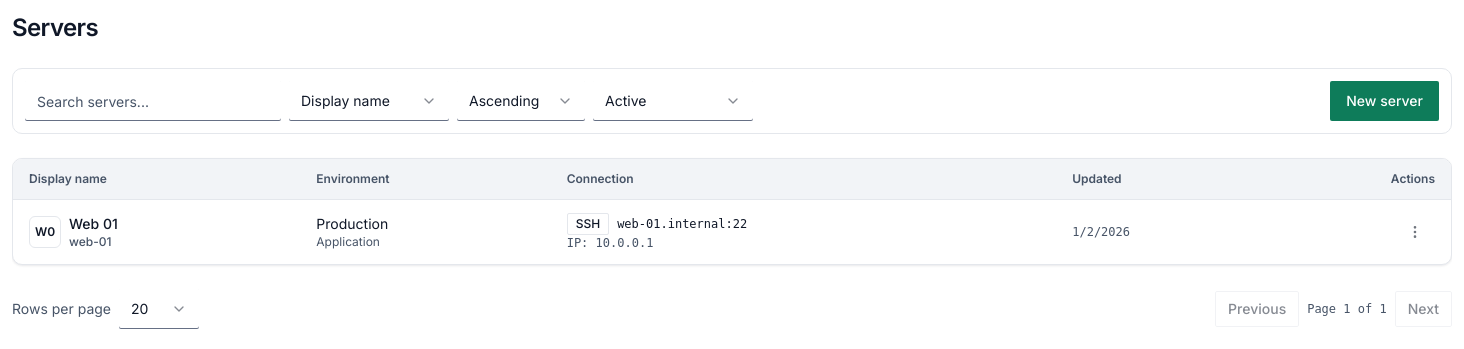
Test: ServersPage › RBAC — Server create/update is admin+member, delete/restore is admin-only (verified against backend/src/routes/servers.routes.ts, deliberately NOT Environments' › shows both Edit and Delete to an admin
This screenshot has width=1464, height=349.
Expected: the text "Web 01" is shown, [69,214,118,234]
Press the mouse on the button named "Actions": coordinates (1415, 232) [1395,212,1435,252]
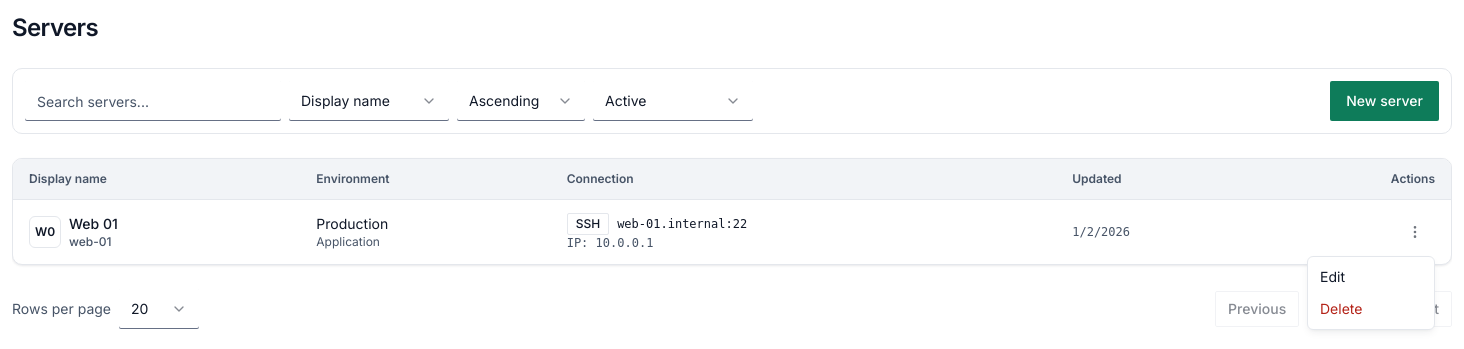
Expected: the menu item "Edit" is shown, [1320,268,1345,285]
Expected: the menu item "Delete" is shown, [1320,300,1362,317]
